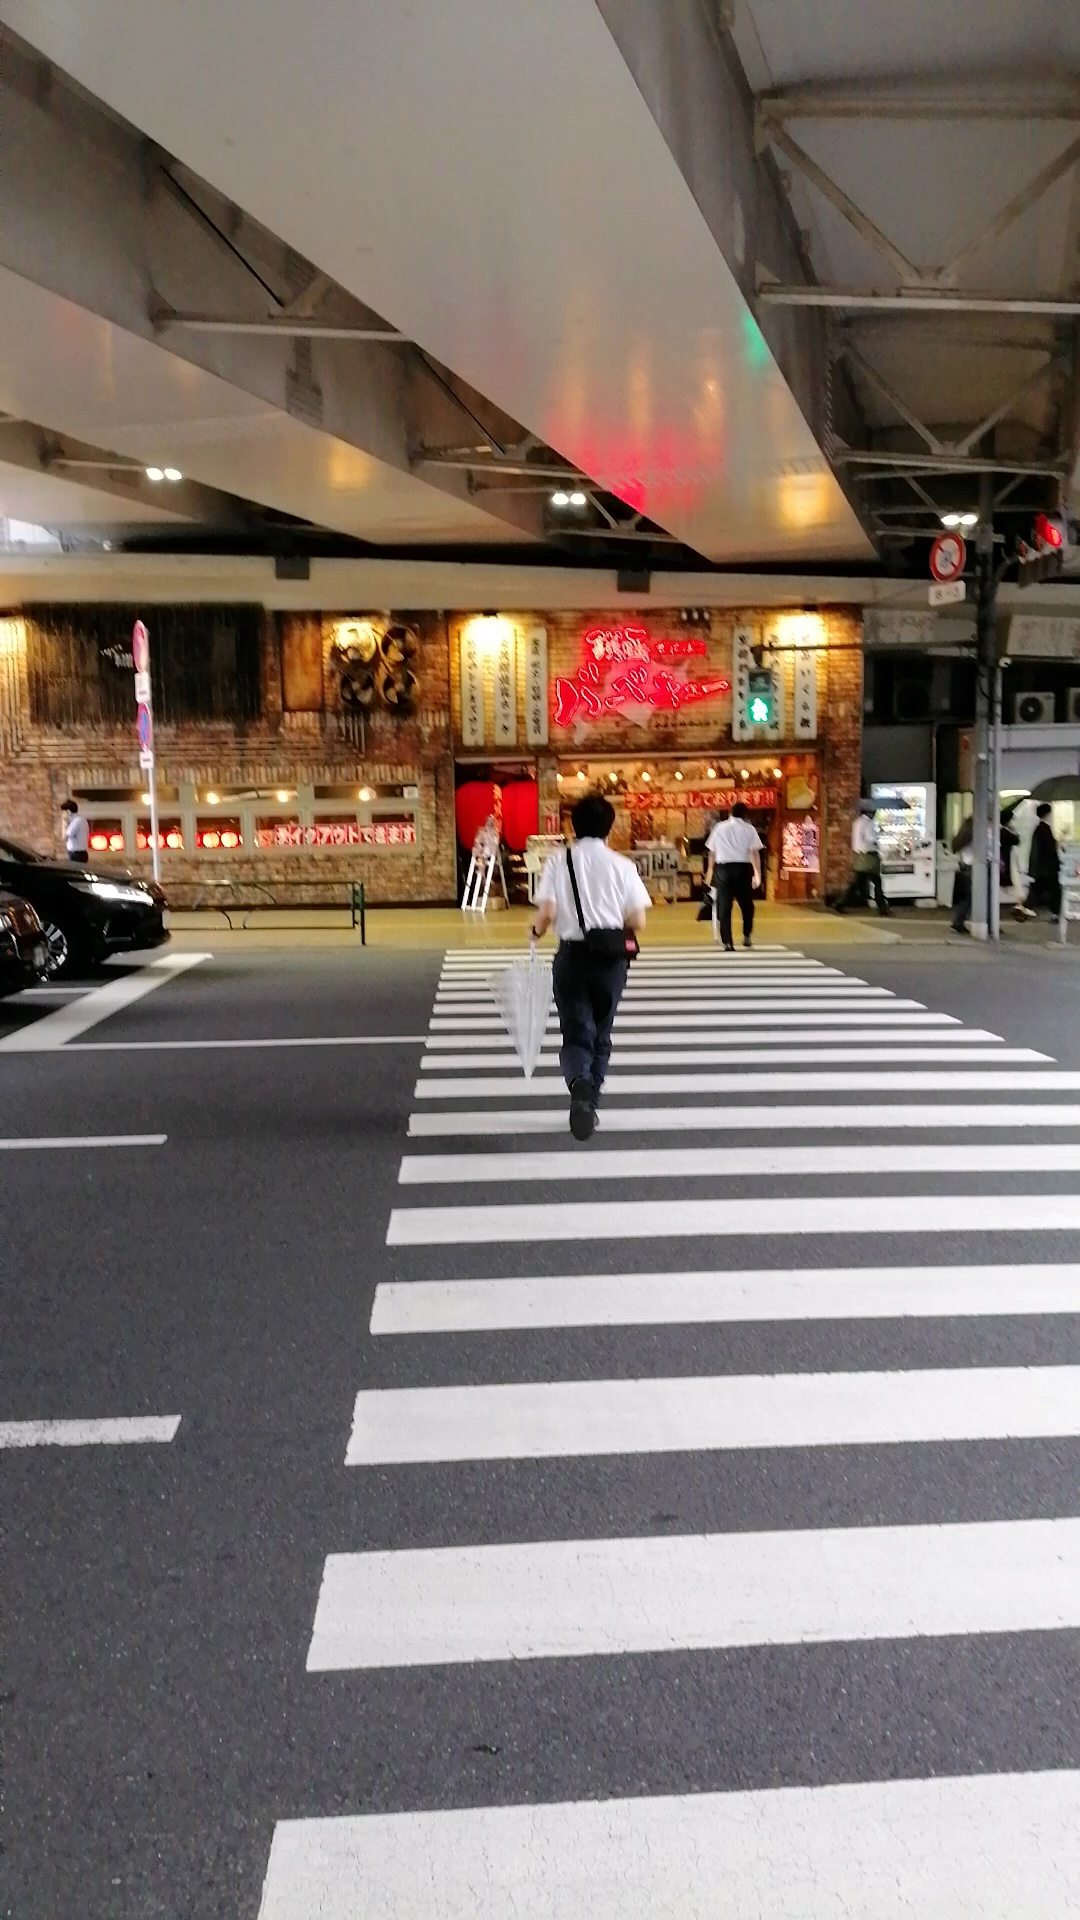green: (744, 665, 775, 729)
